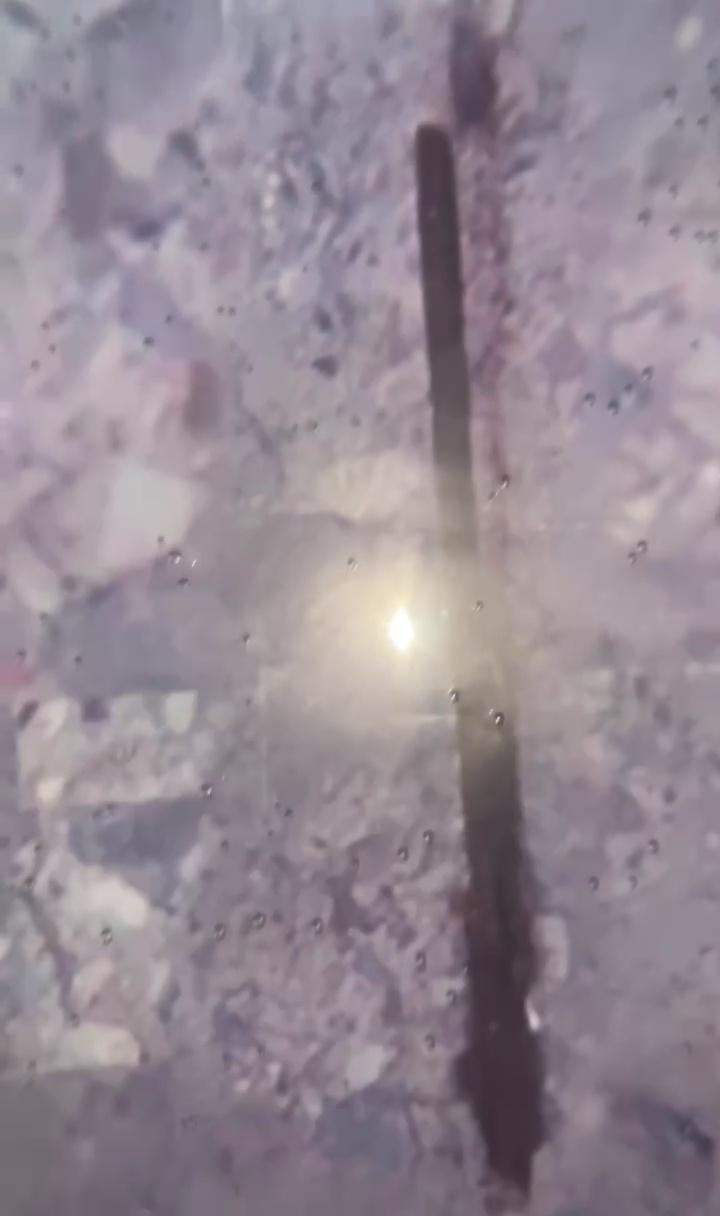Exposed reinforcement: (411, 124, 542, 1194)
